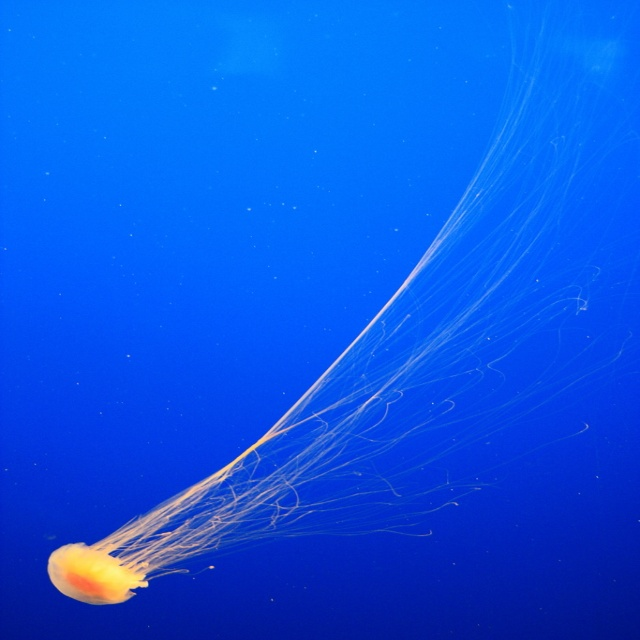Jellyfish: (50, 71, 616, 616)
